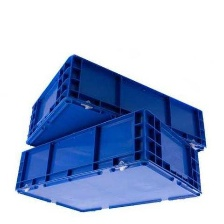plastic_box: (8, 103, 207, 219), (20, 49, 211, 168)
